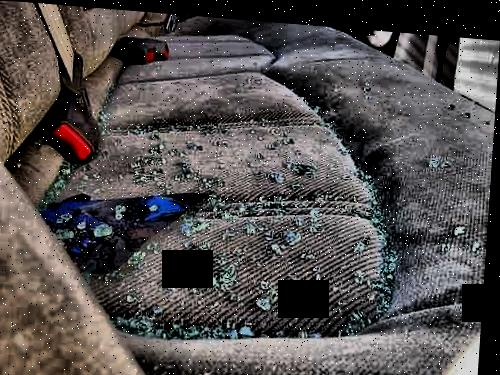seatbelt: (22, 5, 128, 128)
